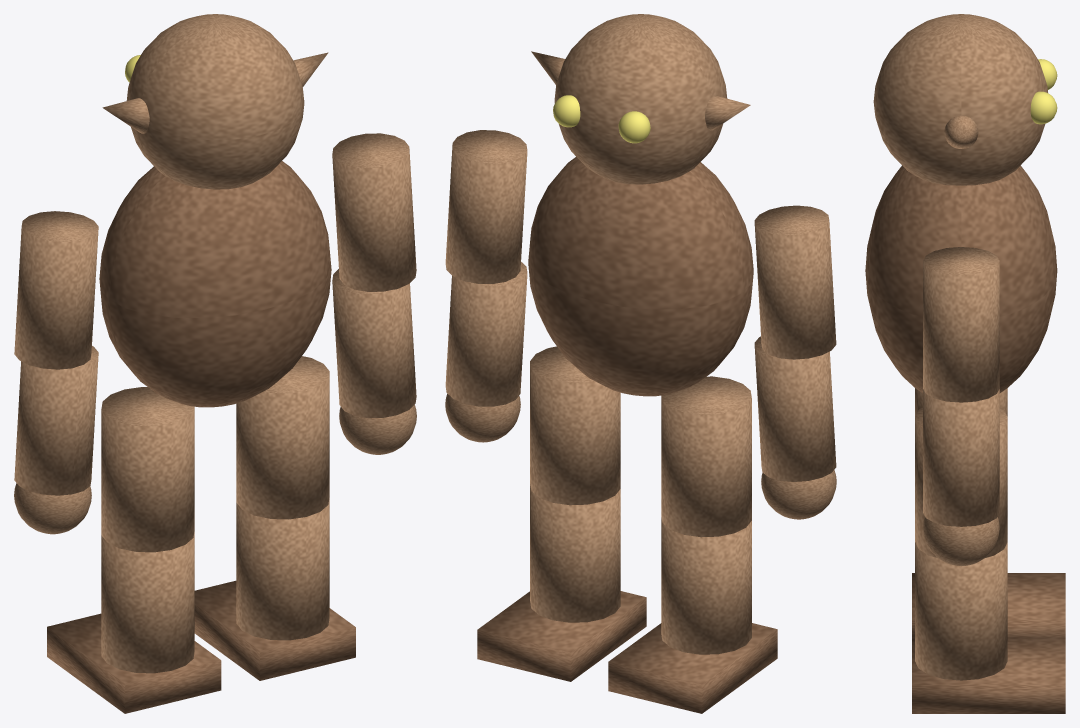
Rendered from mogwai.glb.
3 views of the same model, side by side, from view 1: azimuth 30°, elevation 25°; view 2: azimuth 150°, elevation 25°; view 3: azimuth 270°, elevation 25° (orthographic). The views are drawn at different scales.
Visible parts, largest first — view 1: Torso, Head, ThighL, ThighR, UpperArmR, UpperArmL, ShinR, ShinL, ForearmR, ForearmL, FootL, FootR (+3 smaller); view 2: Torso, Head, ThighL, ThighR, UpperArmR, UpperArmL, ShinR, ShinL, ForearmR, ForearmL, FootR, FootL (+5 smaller); view 3: Torso, Head, UpperArmR, ShinR, ForearmR, FootR, FootL, HandR, ThighR, Ear.001, Eye.001, ThighL (+1 smaller).
Part boxes in pixels (box(x1,y1,x2,y2)): Torso: box(99, 161, 331, 407); Head: box(126, 14, 304, 189); ThighL: box(101, 387, 194, 552); ThighR: box(236, 356, 329, 519); UpperArmR: box(332, 133, 416, 291); UpperArmL: box(14, 211, 98, 369); ShinR: box(236, 498, 329, 640); ShinL: box(101, 532, 194, 673); ForearmR: box(332, 269, 416, 418); ForearmL: box(14, 346, 98, 495); FootL: box(47, 613, 221, 713); FootR: box(194, 580, 355, 680); Torso: box(528, 157, 753, 396); Head: box(554, 14, 727, 184); ThighL: box(661, 376, 751, 537); ThighR: box(530, 346, 620, 505); UpperArmR: box(445, 130, 527, 283); UpperArmL: box(754, 205, 836, 359); ShinR: box(530, 484, 620, 622); ShinL: box(661, 517, 751, 654); ForearmR: box(445, 262, 527, 406); ForearmL: box(754, 336, 836, 481); FootR: box(477, 591, 646, 681); FootL: box(608, 623, 777, 713); Torso: box(865, 165, 1057, 393); Head: box(873, 14, 1047, 185); UpperArmR: box(923, 247, 999, 402); ShinR: box(915, 542, 1007, 680); ForearmR: box(923, 389, 999, 526); FootR: box(912, 637, 1065, 713); FootL: box(912, 573, 1065, 637); HandR: box(923, 517, 999, 566); ThighR: box(915, 407, 1007, 557); Ear.001: box(944, 115, 978, 148); Eye.001: box(1030, 91, 1057, 124); ThighL: box(915, 388, 1007, 416).
Bounding box in the file's own units: 0.6367 × 1 × 0.2852.
3 materials, 2 textured.
